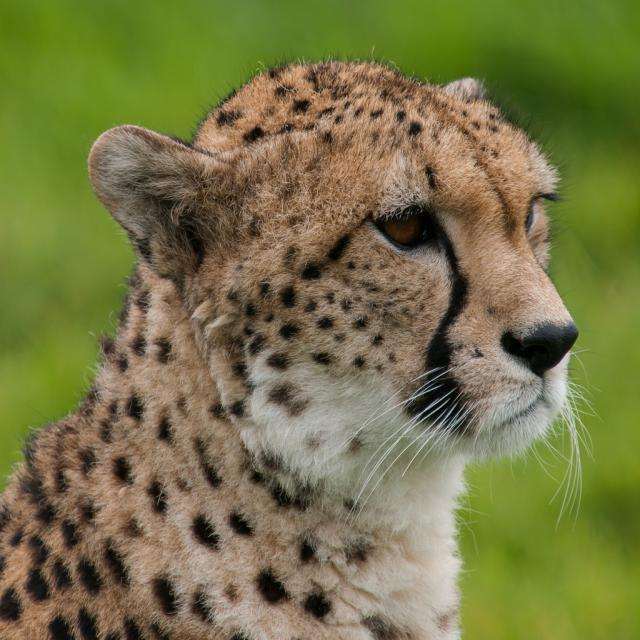Cheetah: (0, 50, 597, 640)
